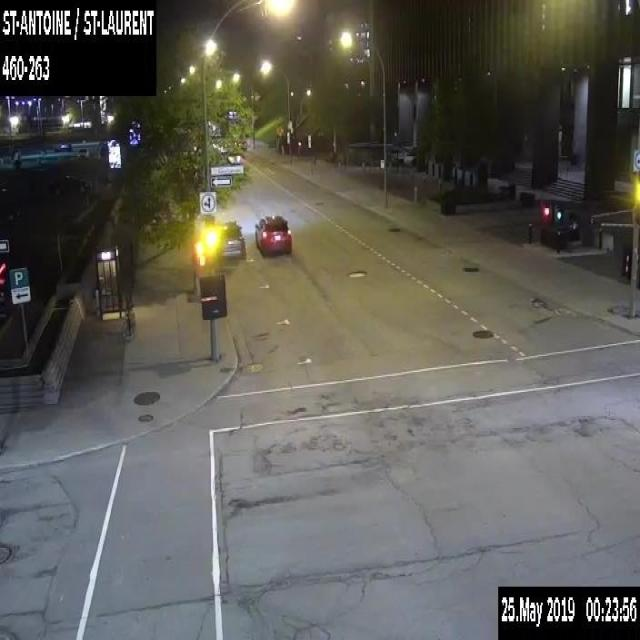construction: (275, 124, 283, 136)
vehicle: (254, 213, 291, 254), (218, 220, 246, 259), (49, 173, 91, 196), (54, 141, 73, 151), (228, 151, 241, 163), (77, 147, 89, 158)
